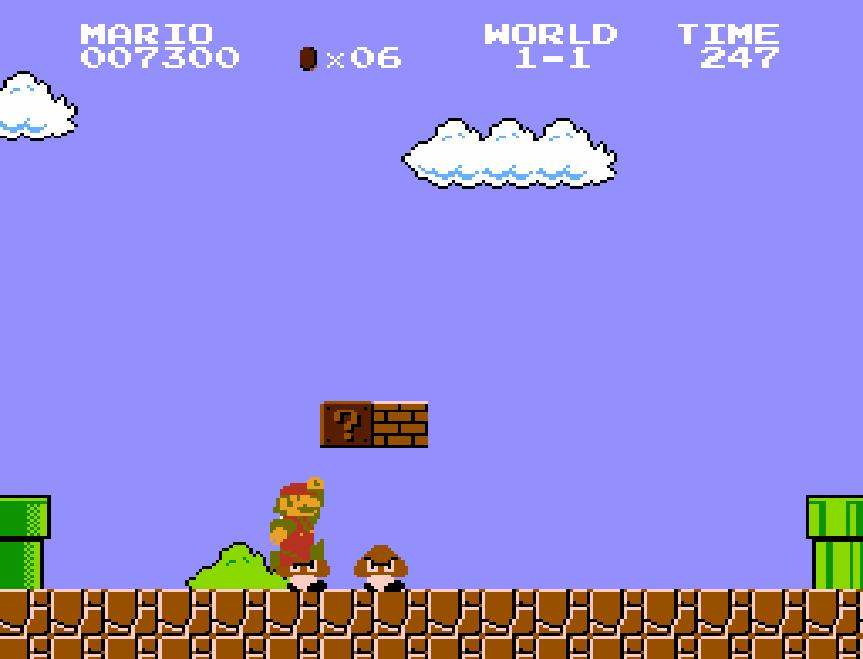big_mario: (267, 476, 325, 574)
